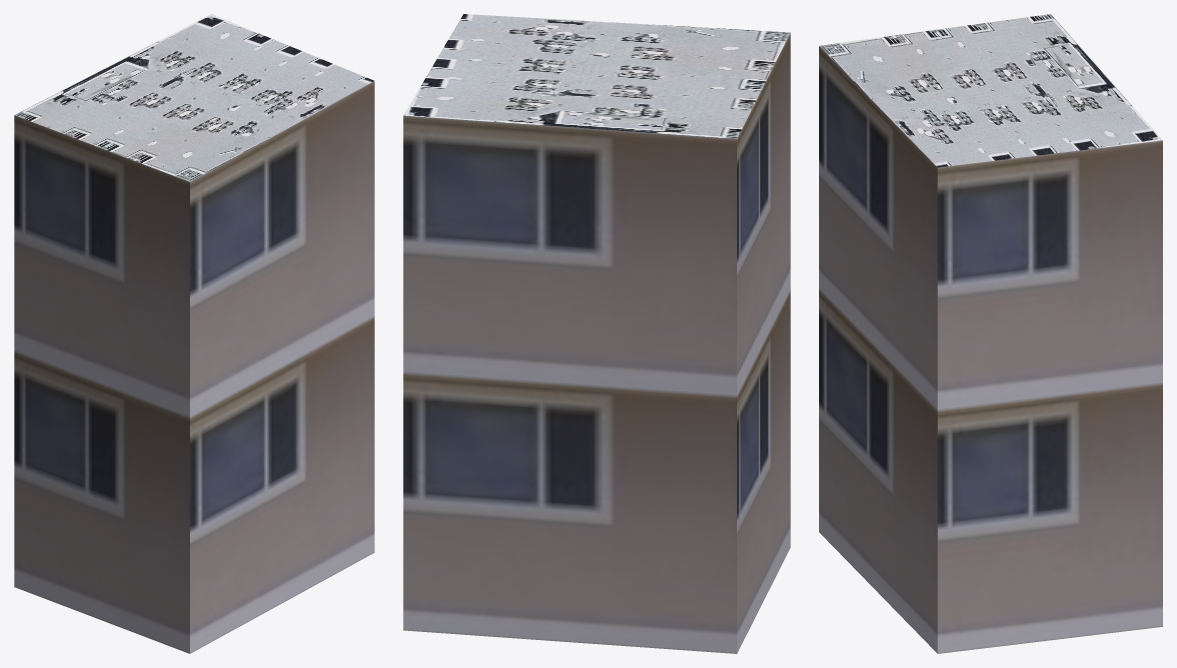
File: ResTex__631.fbx
The picture shows the model from 3 angles, left to right: view 1: azimuth 30°, elevation 25°; view 2: azimuth 150°, elevation 25°; view 3: azimuth 270°, elevation 25°; orthographic projection. The views are drawn at different scales.
Visible parts, largest first — view 1: CityEngineMaterial_21_m, CityEngineMaterial_2_m; view 2: CityEngineMaterial_21_m, CityEngineMaterial_2_m; view 3: CityEngineMaterial_21_m, CityEngineMaterial_2_m.
Part boxes in pixels (bbox=[...]): CityEngineMaterial_21_m: bbox=[14, 81, 374, 653]; CityEngineMaterial_2_m: bbox=[14, 14, 374, 181]; CityEngineMaterial_21_m: bbox=[403, 33, 790, 653]; CityEngineMaterial_2_m: bbox=[403, 14, 790, 138]; CityEngineMaterial_21_m: bbox=[819, 46, 1162, 653]; CityEngineMaterial_2_m: bbox=[819, 14, 1162, 167].
Size of the model in its own units: 4.06 by 6 by 3.84.
2 materials, 2 textured.
